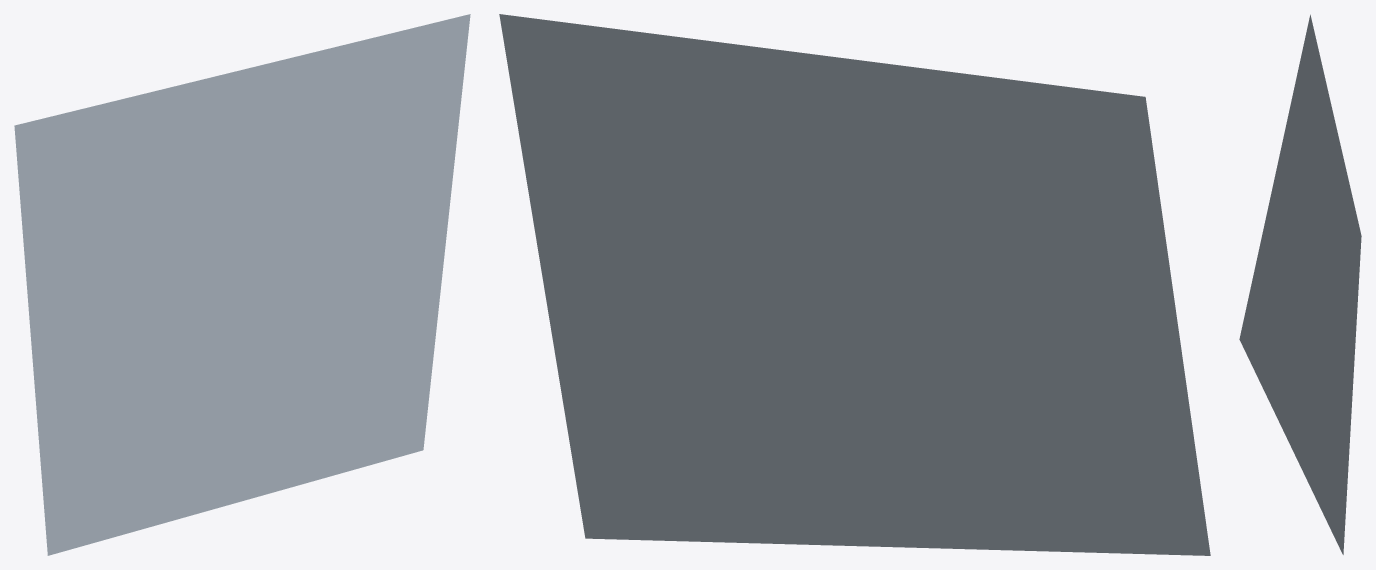
Rendered from dorsal-radio-ulnar-ligament-l.glb.
3 views of the same model, side by side, from view 1: azimuth 30°, elevation 25°; view 2: azimuth 150°, elevation 25°; view 3: azimuth 270°, elevation 25° (orthographic). The views are drawn at different scales.
Visible parts, largest first — view 1: Dorsal radio-ulnar ligament.l; view 2: Dorsal radio-ulnar ligament.l; view 3: Dorsal radio-ulnar ligament.l.
Boxes of the visible parts, bbox=[...] form: Dorsal radio-ulnar ligament.l: bbox=[14, 14, 470, 555]; Dorsal radio-ulnar ligament.l: bbox=[499, 14, 1210, 555]; Dorsal radio-ulnar ligament.l: bbox=[1239, 14, 1361, 554].
Bounding box in the file's own units: 0.0111 × 0.00947 × 0.00284.
